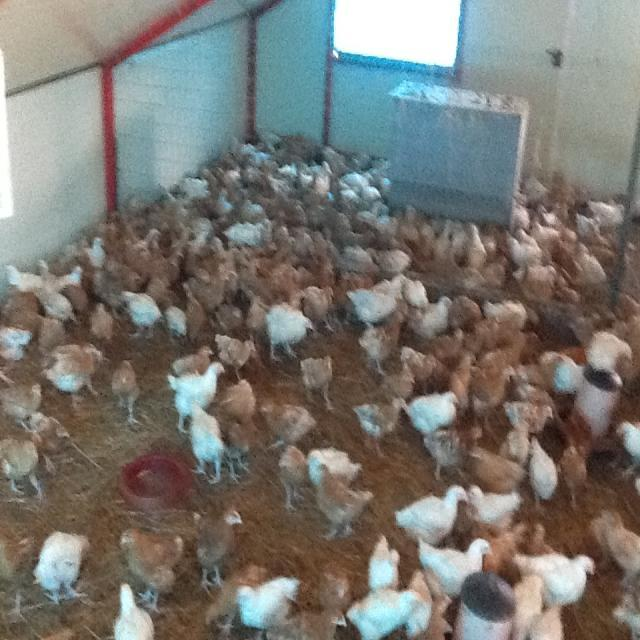poussin: (117, 526, 185, 612), (513, 548, 598, 610), (413, 537, 494, 602), (310, 460, 372, 544), (6, 262, 80, 328), (190, 504, 242, 596), (204, 562, 268, 634), (394, 484, 468, 546), (32, 530, 92, 606), (167, 360, 224, 438), (0, 509, 36, 628), (230, 574, 299, 634), (346, 588, 426, 639), (42, 344, 104, 408), (358, 307, 409, 378), (256, 398, 318, 456), (261, 300, 315, 366), (593, 506, 640, 579), (352, 393, 408, 454), (425, 422, 483, 480), (474, 361, 519, 434), (187, 399, 224, 486), (464, 440, 526, 490), (406, 387, 459, 442), (28, 412, 72, 478), (0, 434, 42, 502), (111, 578, 156, 640), (305, 446, 359, 497), (520, 378, 570, 430), (466, 486, 526, 529), (347, 282, 404, 326), (120, 289, 168, 340), (503, 390, 563, 430), (296, 350, 334, 412), (266, 610, 349, 638), (0, 381, 45, 432), (212, 332, 258, 380), (512, 572, 544, 640), (110, 358, 141, 426), (584, 333, 636, 373), (278, 443, 306, 516), (402, 570, 432, 638), (367, 536, 402, 594), (408, 294, 453, 338), (528, 441, 558, 506), (300, 284, 336, 338), (380, 349, 414, 406), (318, 560, 356, 610), (503, 234, 545, 279), (258, 260, 303, 302), (547, 348, 587, 395), (222, 374, 258, 424), (516, 352, 566, 388), (447, 348, 475, 411), (88, 266, 123, 316), (170, 344, 216, 382), (519, 260, 565, 298), (562, 443, 590, 505), (6, 290, 47, 332), (223, 421, 249, 487), (0, 328, 33, 380), (402, 346, 441, 390), (358, 210, 404, 246), (617, 420, 640, 490), (186, 272, 228, 310), (218, 250, 263, 285), (197, 262, 239, 298), (506, 416, 535, 468), (428, 255, 478, 285), (492, 522, 520, 575), (223, 218, 272, 248), (142, 264, 175, 308), (104, 252, 142, 290), (390, 273, 430, 308), (432, 326, 468, 364), (484, 302, 540, 326), (470, 314, 498, 362), (533, 602, 568, 640), (573, 246, 605, 287), (184, 289, 207, 346), (403, 209, 432, 254), (448, 294, 484, 330), (149, 246, 186, 281), (496, 314, 524, 359), (84, 302, 114, 344), (302, 250, 336, 286), (584, 200, 628, 227), (187, 232, 220, 268), (121, 226, 162, 254), (336, 240, 380, 266), (206, 164, 242, 195), (212, 293, 240, 331), (514, 225, 546, 258), (474, 256, 509, 286), (306, 190, 335, 226), (464, 223, 488, 266), (243, 293, 266, 335), (178, 175, 212, 203), (488, 224, 518, 255), (432, 218, 453, 262), (66, 285, 94, 318), (523, 175, 550, 209), (164, 306, 188, 344), (162, 190, 192, 220), (78, 237, 105, 270), (372, 250, 412, 272), (319, 142, 346, 174), (449, 222, 469, 264), (294, 220, 318, 255), (586, 222, 613, 253), (259, 166, 286, 197), (530, 522, 552, 560), (190, 202, 213, 238), (528, 220, 558, 247), (125, 236, 151, 266), (272, 190, 302, 216), (311, 162, 332, 198), (228, 137, 258, 162), (570, 215, 604, 237), (362, 177, 389, 204), (536, 206, 566, 230), (314, 230, 338, 258), (512, 199, 530, 236), (100, 230, 130, 252), (246, 146, 272, 171), (237, 164, 261, 191), (276, 233, 300, 258), (270, 206, 290, 236), (337, 188, 360, 214), (294, 160, 314, 188), (240, 197, 265, 219), (336, 211, 357, 237), (343, 173, 374, 189), (218, 190, 234, 220), (172, 226, 192, 247), (258, 238, 276, 258), (280, 158, 298, 178)
